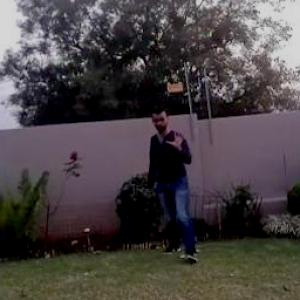follow_hand: (165, 124, 188, 151)
